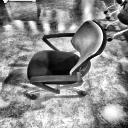chair_success: (25, 19, 108, 101)
